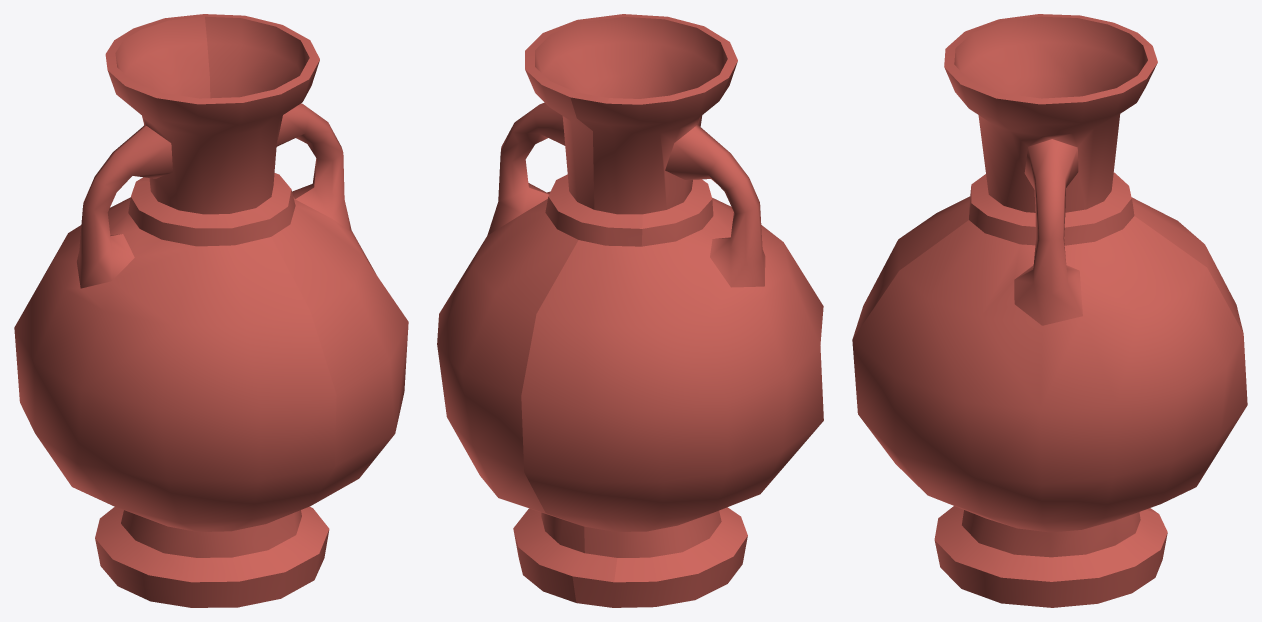
File: SM_Amphora.fbx
The picture shows the model from 3 angles, left to right: view 1: azimuth 30°, elevation 25°; view 2: azimuth 150°, elevation 25°; view 3: azimuth 270°, elevation 25°; orthographic projection.
Visible parts, largest first — view 1: SM_Amphora; view 2: SM_Amphora; view 3: SM_Amphora.
Part boxes in pixels (<box>): SM_Amphora: <box>14,14,408,607</box>; SM_Amphora: <box>437,14,823,607</box>; SM_Amphora: <box>852,14,1247,607</box>.
Bounding box in the file's own units: 0.3391 × 0.4838 × 0.3444.
